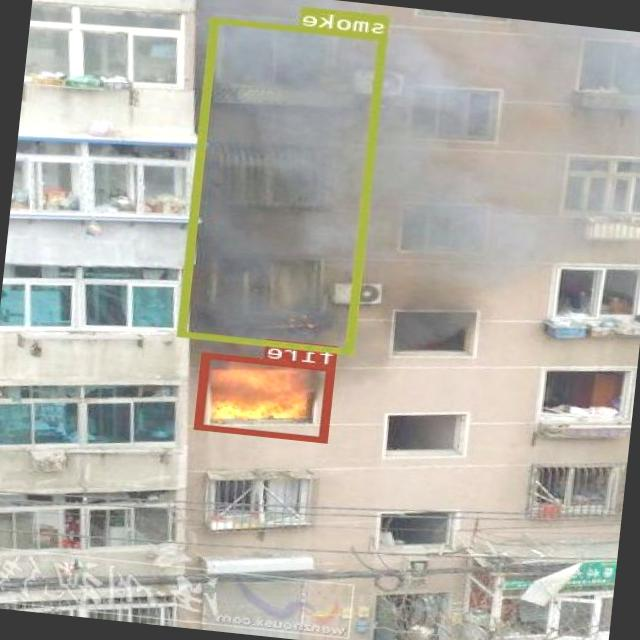fire: (197, 352, 335, 442)
smoke: (179, 16, 388, 353)
